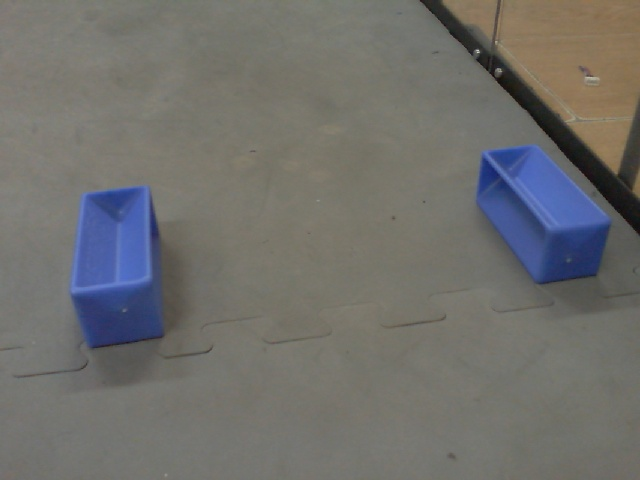BlueSample: (476, 137, 618, 292), (65, 178, 169, 356)
